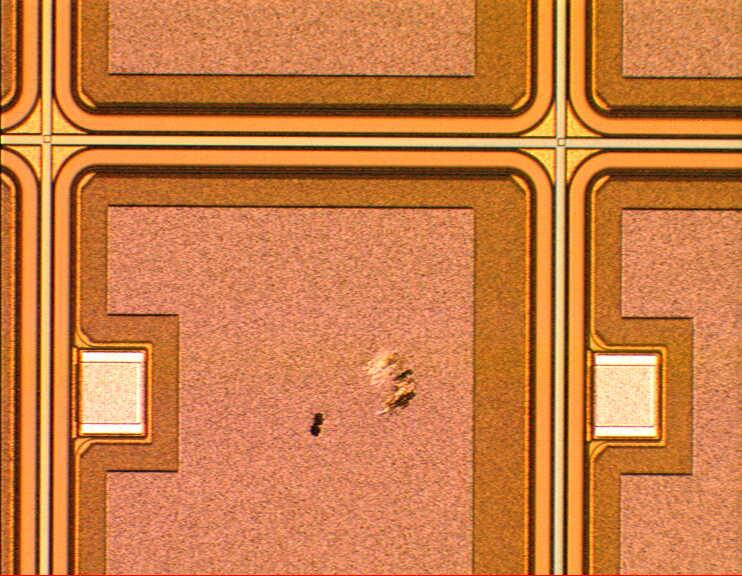SCRATCH: (296, 344, 427, 451)
